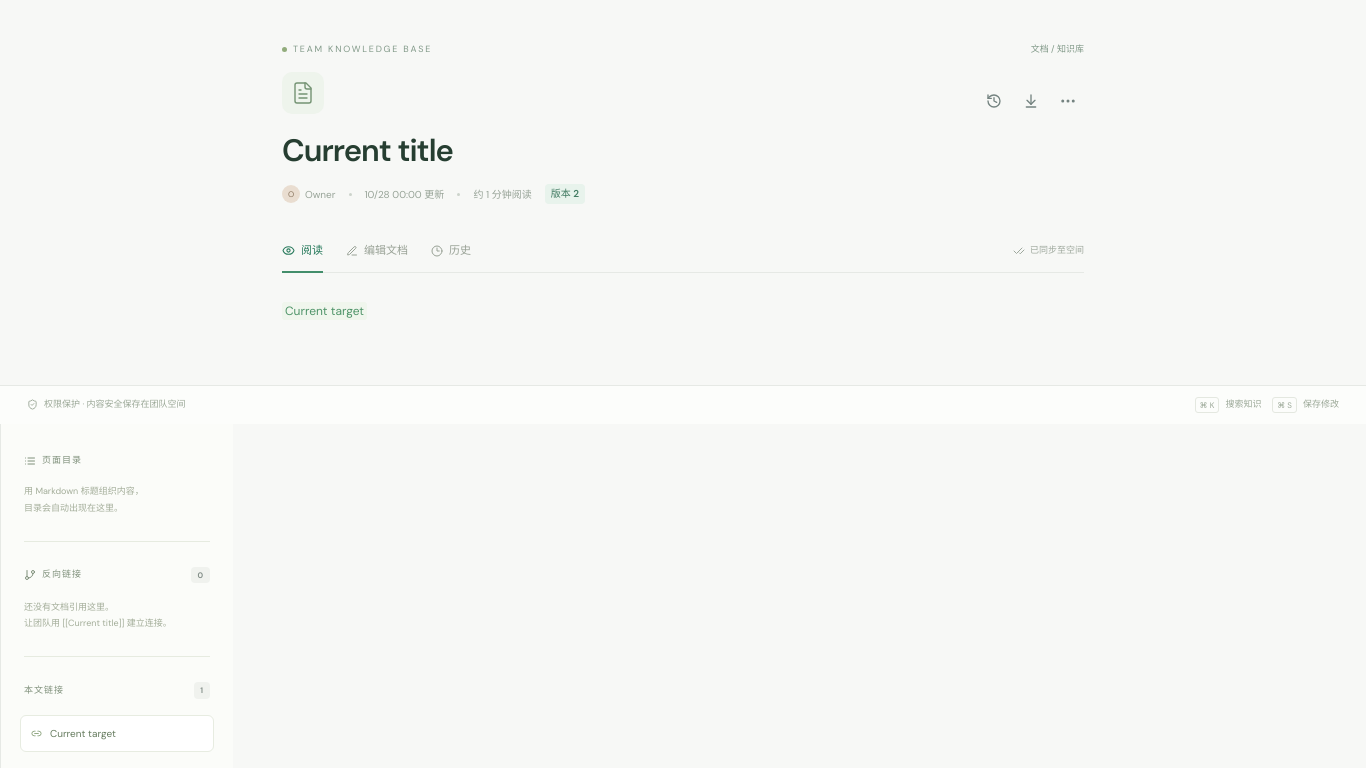
Test: resolves historical wiki links independently of the current document on a direct URL
Check: the link to "/w/w/p/current-target" is shown, box [282,302,367,320]
Click the button named "历史版本" at (994, 100), box [978,84,1010,116]
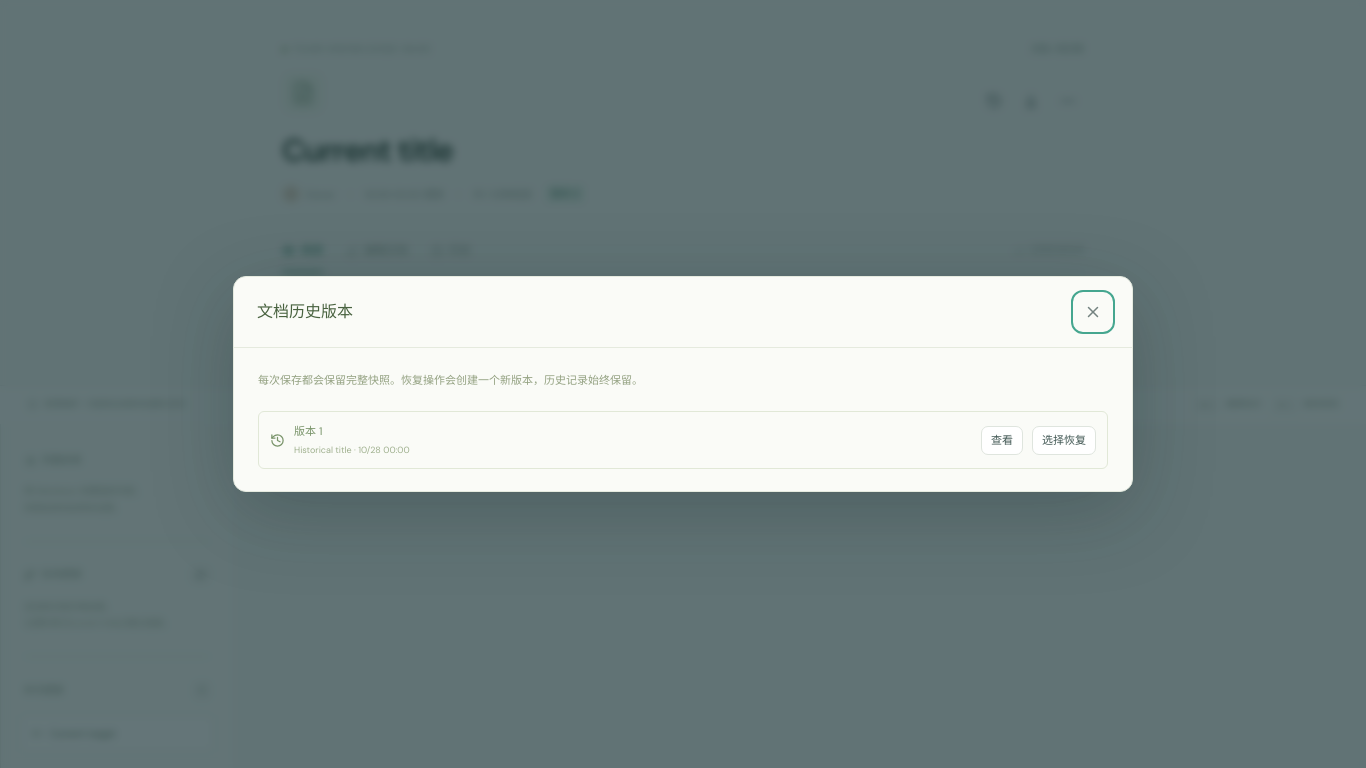
Click the button "查看" at (1002, 440), box [981,426,1023,455]
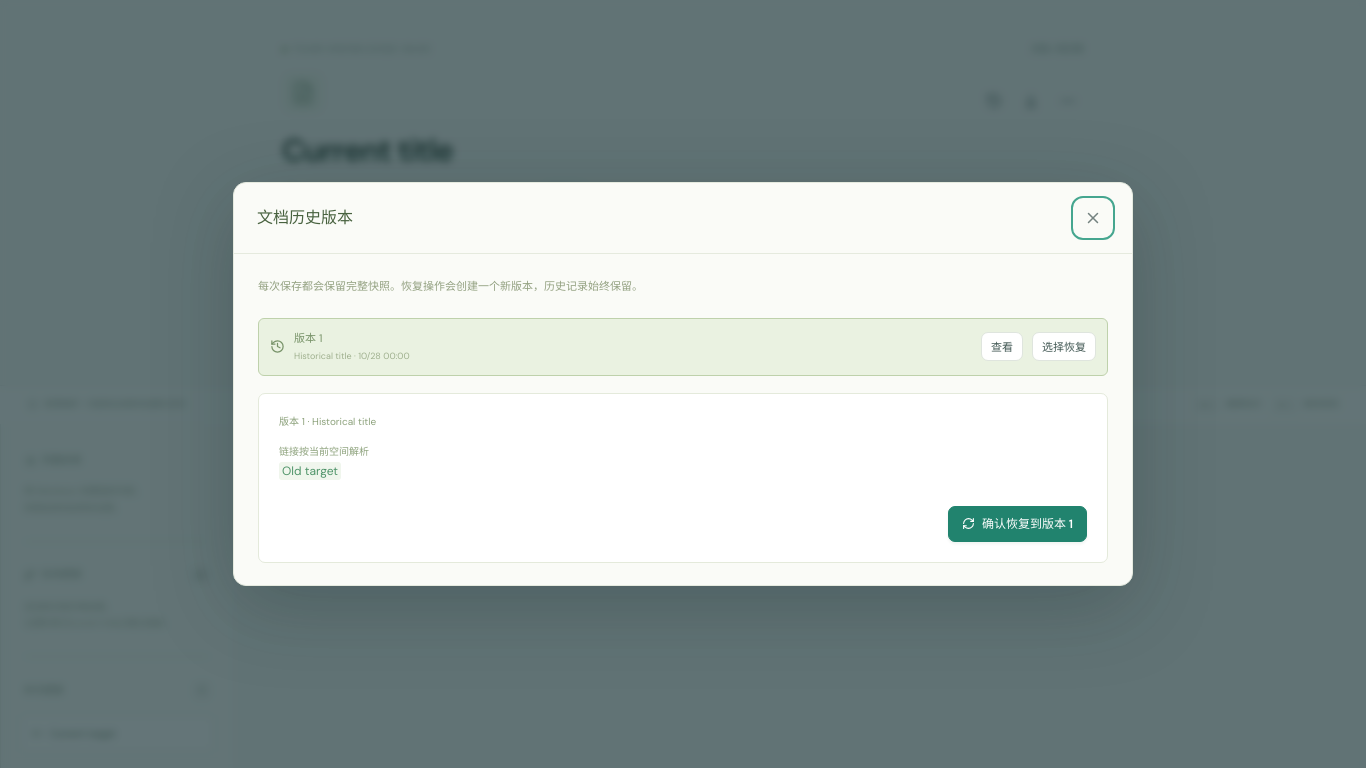
Check: the link to "/w/w/p/historical-target" is shown, box [279,462,341,480]
Check: the element with class "revision-preview" shows "链接按当前空间解析", box [279,445,369,458]
